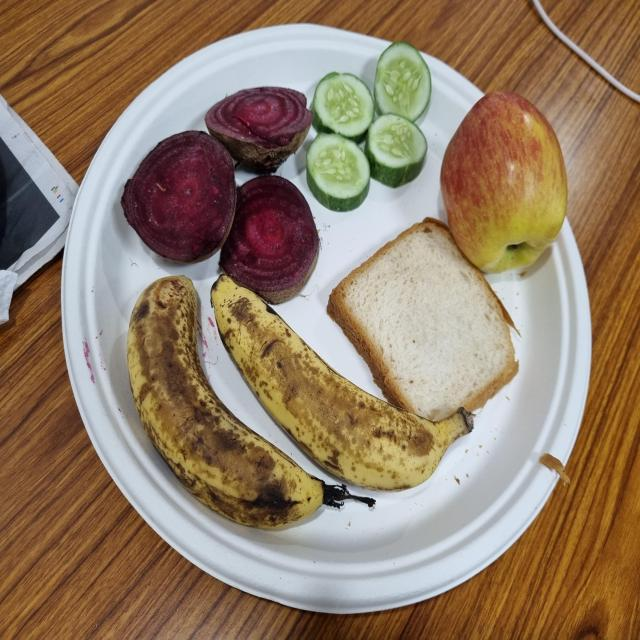apple: (439, 92, 570, 278)
banana: (209, 274, 471, 494), (126, 278, 326, 531)
cucumber: (301, 126, 373, 215), (372, 44, 433, 128), (309, 73, 376, 149), (363, 114, 428, 192)
